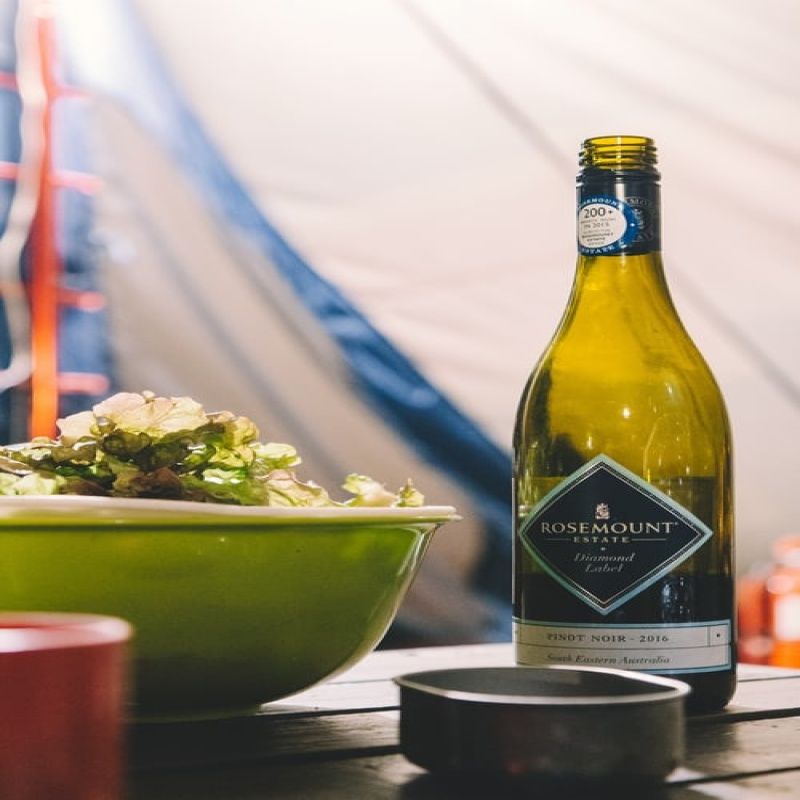wine: (510, 137, 734, 699)
